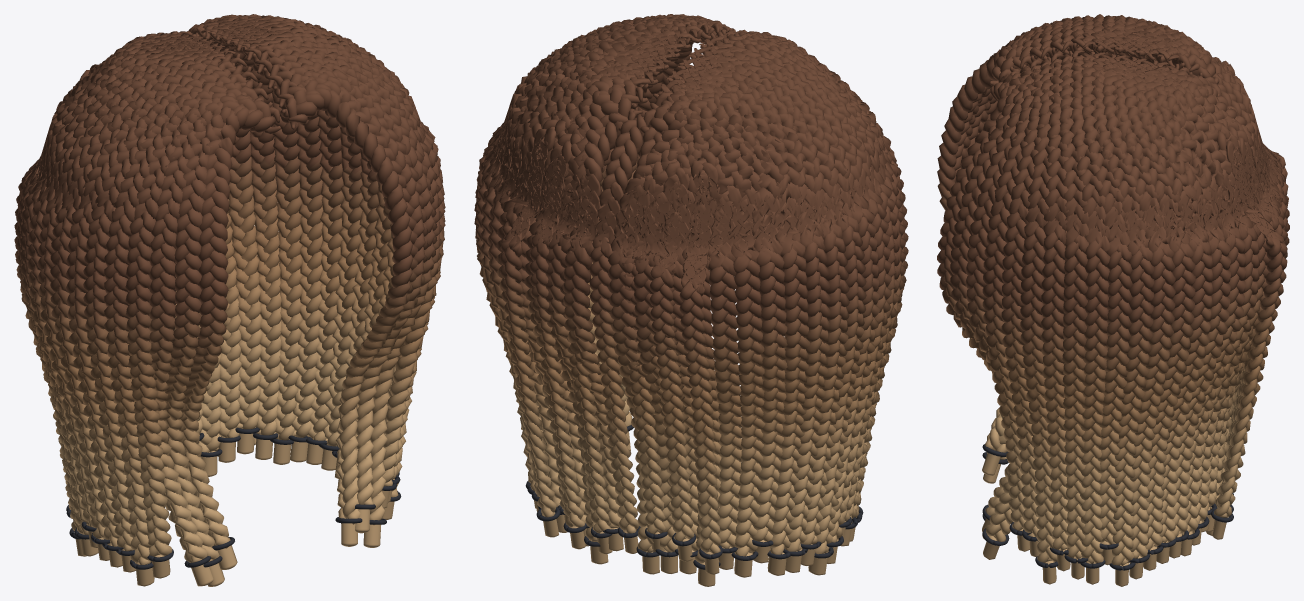
File: Ombre-301773003718253-hair.glb
The picture shows the model from 3 angles, left to right: view 1: azimuth 30°, elevation 25°; view 2: azimuth 150°, elevation 25°; view 3: azimuth 270°, elevation 25°; orthographic projection. The views are drawn at different scales.
Parts seen in each view (by area): view 1: 226 hair / Hair / chestnut226.002, 226 hair / Hair / ties226.002; view 2: 226 hair / Hair / chestnut226.002, 226 hair / Hair / ties226.002; view 3: 226 hair / Hair / chestnut226.002, 226 hair / Hair / ties226.002.
Boxes of the visible parts, x1=… form: 226 hair / Hair / chestnut226.002: x1=14, y1=14, x2=445, y2=586; 226 hair / Hair / ties226.002: x1=66, y1=427, x2=401, y2=569; 226 hair / Hair / chestnut226.002: x1=474, y1=14, x2=908, y2=586; 226 hair / Hair / ties226.002: x1=525, y1=425, x2=863, y2=569; 226 hair / Hair / chestnut226.002: x1=937, y1=14, x2=1289, y2=586; 226 hair / Hair / ties226.002: x1=982, y1=444, x2=1233, y2=570.
Size of the model in its own units: 1.07 by 1.3 by 0.8719.
Materials: 2 (1 with a texture image).
